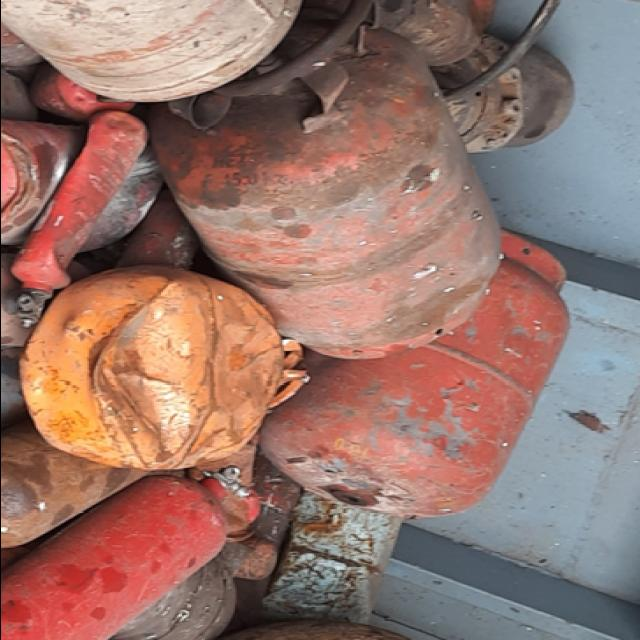cylinder: (150, 1, 504, 359), (259, 230, 569, 519)
